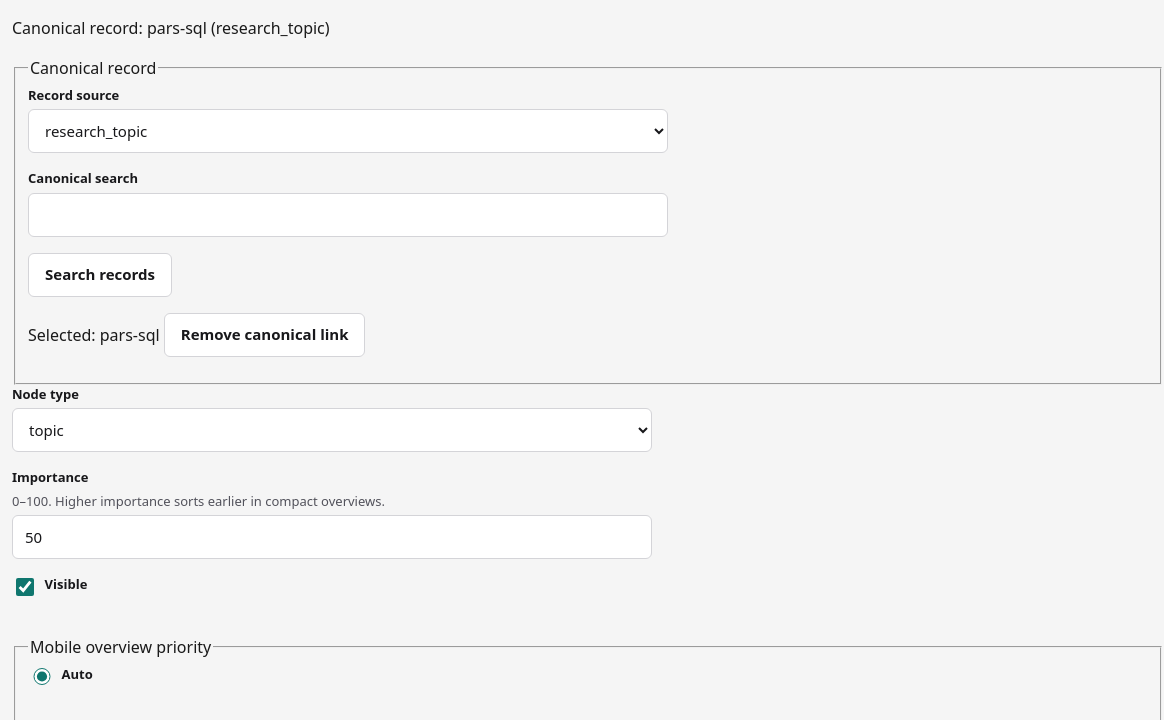
Test: NodeForm (Plan B Task 11) › shows the canonical record and never lets a key be edited
The image size is (1164, 720).
Expected: the text "pars-sql" is shown, [100,323,160,345]
Type "PARS" into the field labelled "Canonical search".
click(348, 215); type("PARS")  # box [28,193,668,237]
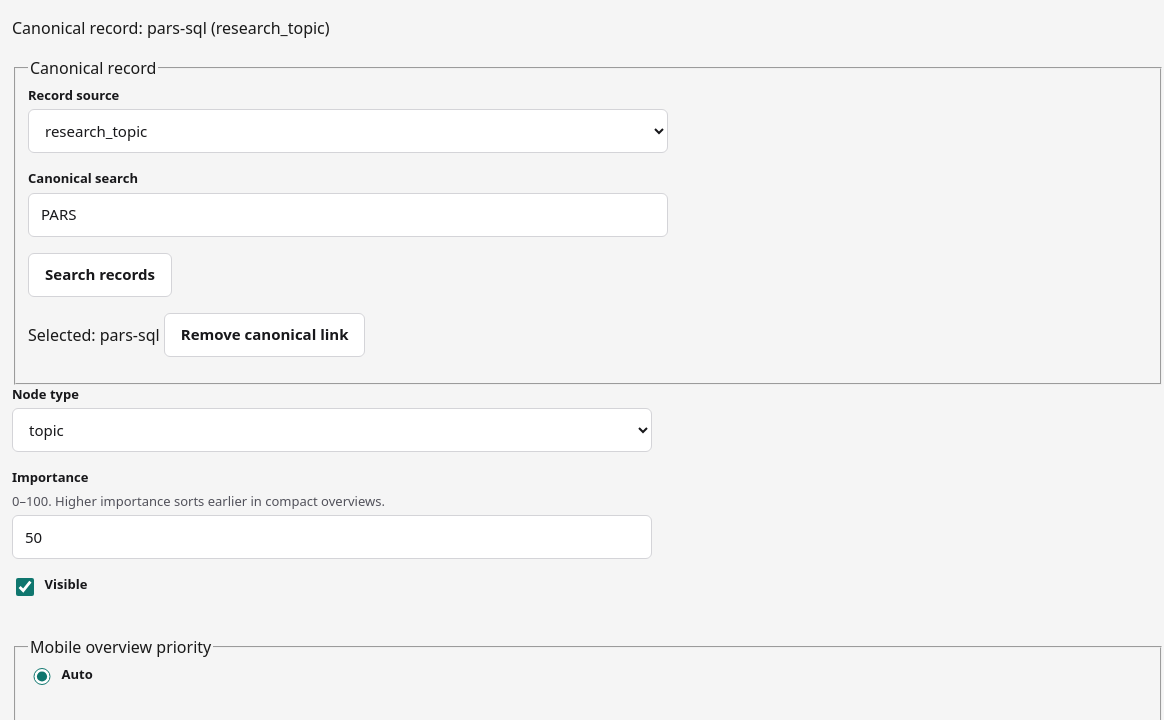
Click the button "Search records".
click(100, 275)  # box [28,253,172,297]
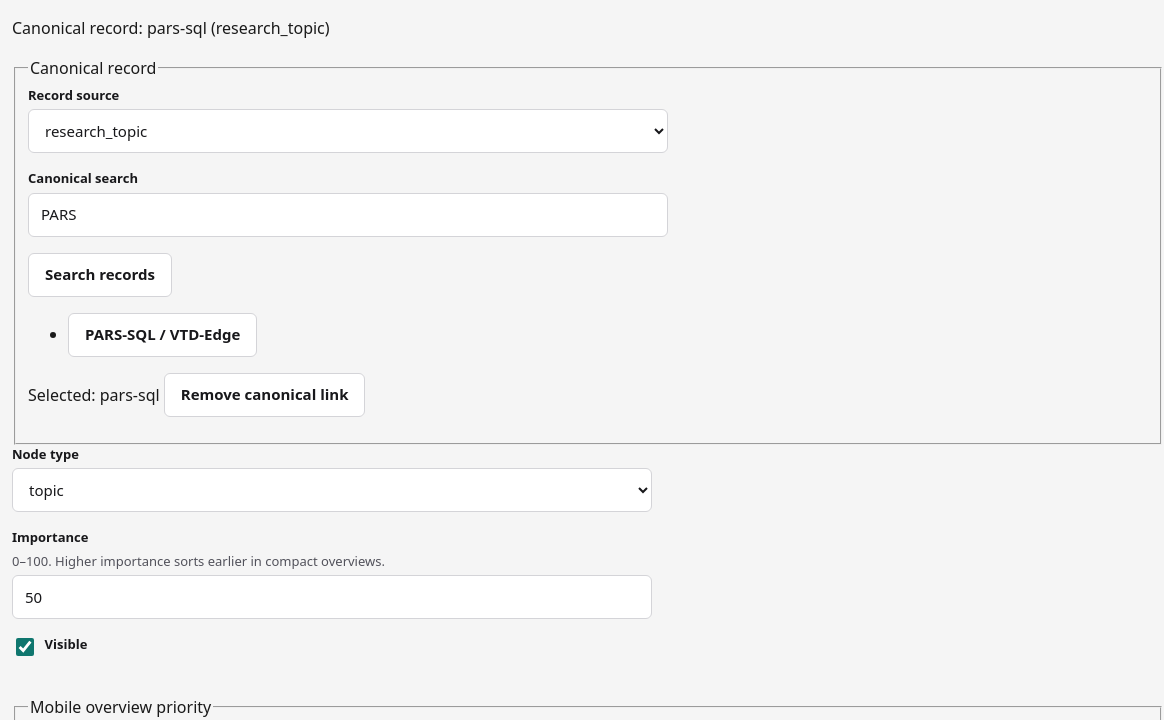
Expected: the button "PARS-SQL / VTD-Edge" is shown, [68,313,257,357]
